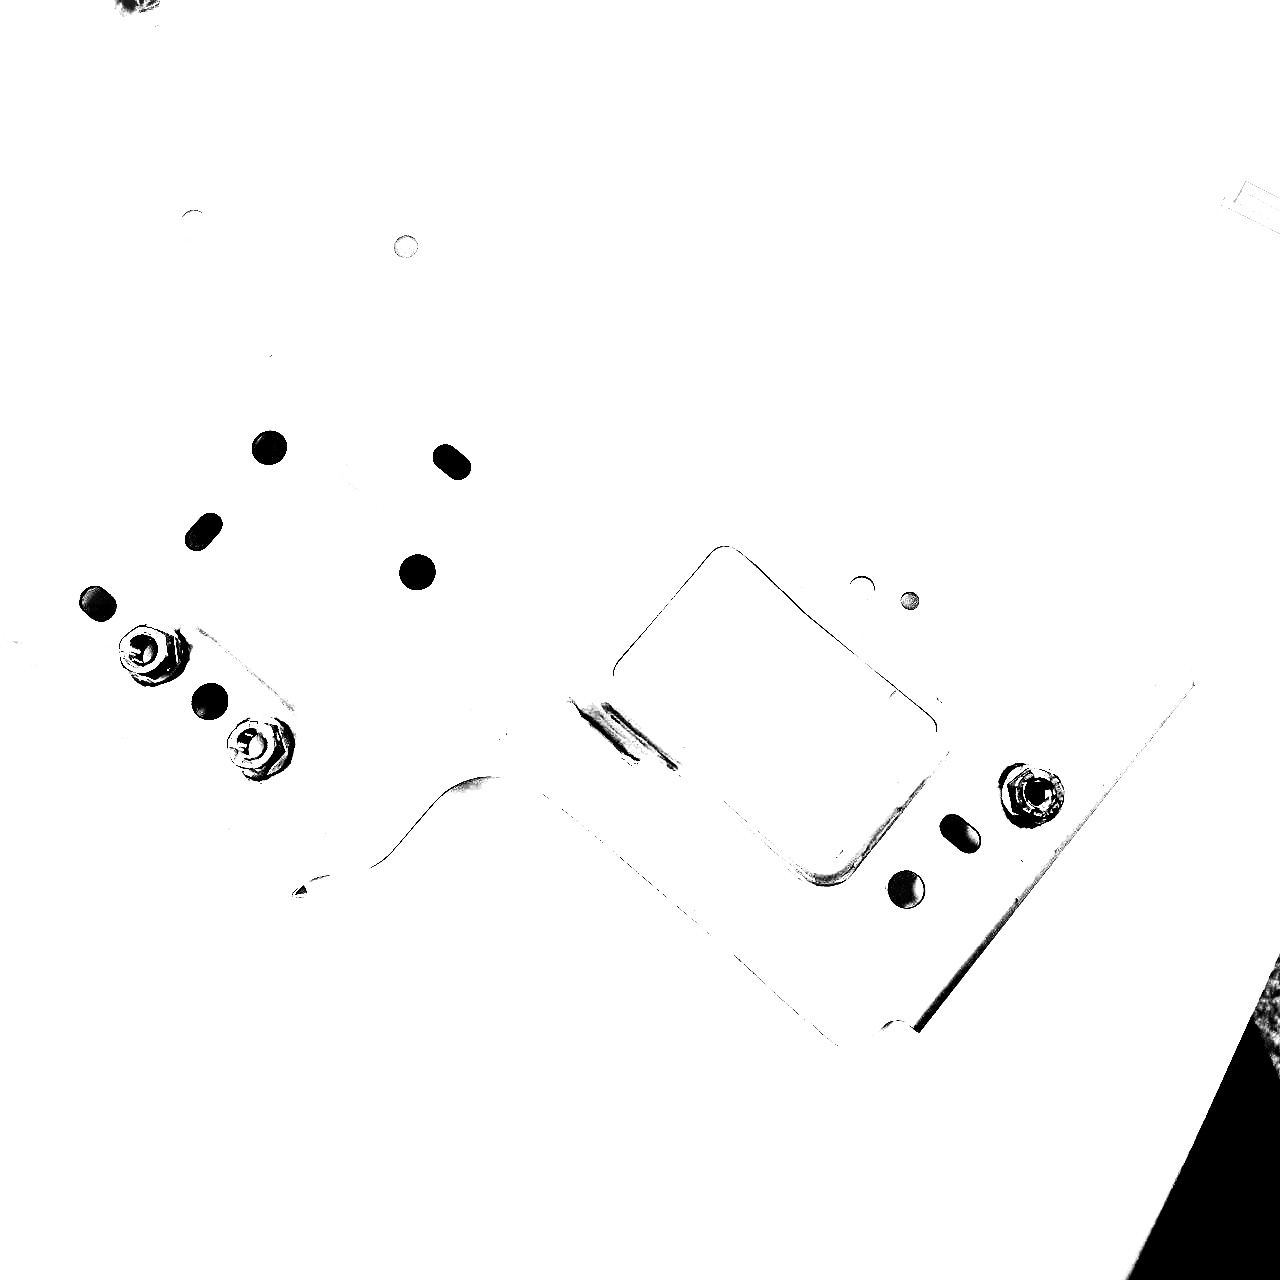dog: (996, 754, 1070, 832), (224, 710, 298, 784), (114, 620, 188, 692)
